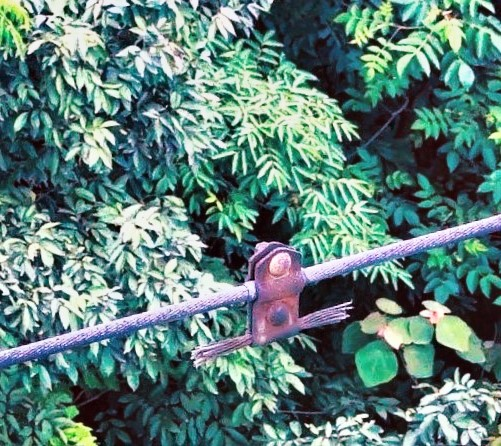Damage of shockproof hammer: (180, 238, 357, 374)
